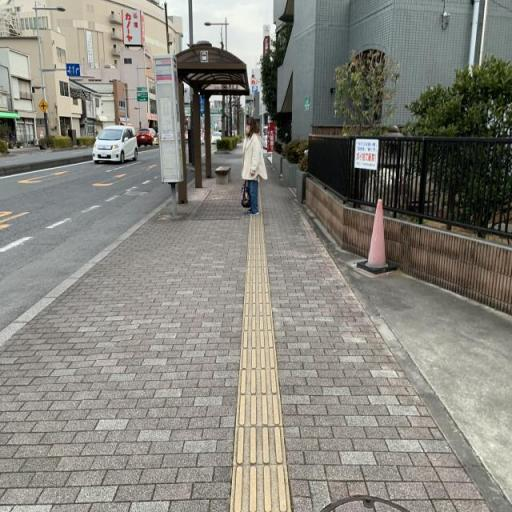line: (231, 465, 295, 511), (234, 425, 287, 464), (236, 395, 281, 426), (237, 369, 280, 396), (239, 348, 278, 369)
